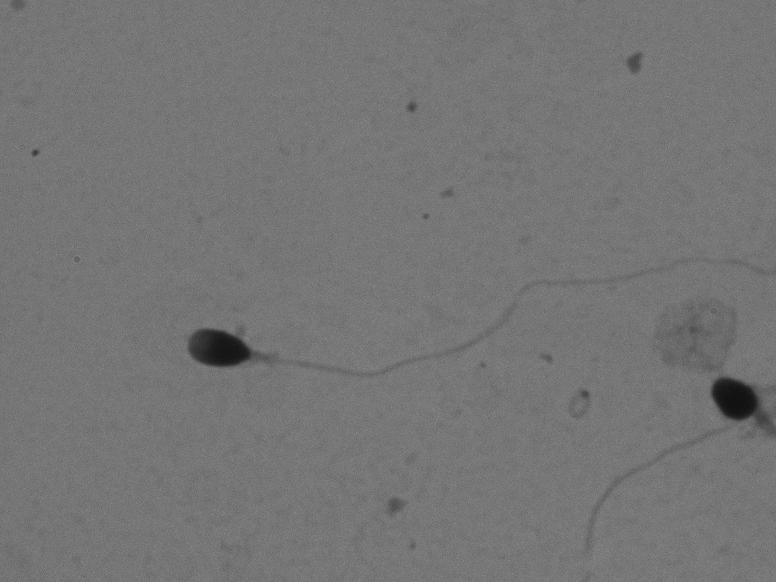Abnormal: (561, 353, 765, 562)
Normal: (164, 206, 760, 382)
